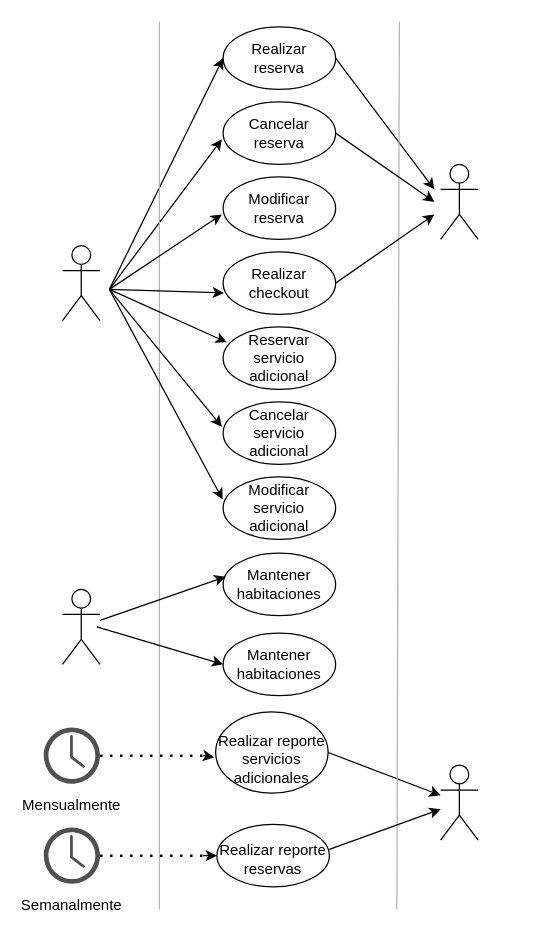
Image size: 536x946. Some labels were removed from this diagram. The centre of each missing label's shape, as x and y in pixels:
"Administrador" belongs at [80,626].
"Cliente" belongs at [80,282].
"Empresa tarjeta de credito" belongs at [458,201].
"Presidente" belongs at [458,802].
